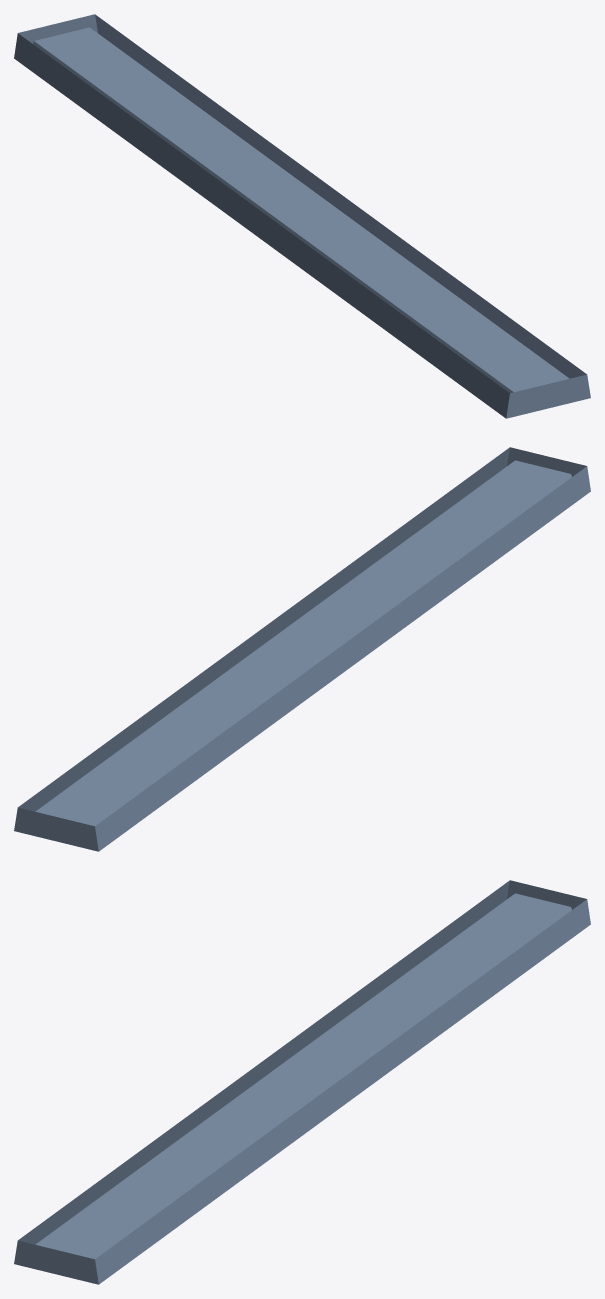
The model's file is SM_LampCeiling_00.fbx.
3 renders of one model, top to bottom at view 1: azimuth 30°, elevation 25°; view 2: azimuth 150°, elevation 25°; view 3: azimuth 330°, elevation 25°, orthographic.
Visible parts, largest first — view 1: LampCeiling_00; view 2: LampCeiling_00; view 3: LampCeiling_00.
Part boxes in pixels (x1,y1,x2,y2): LampCeiling_00: [14, 14, 590, 418]; LampCeiling_00: [14, 447, 590, 851]; LampCeiling_00: [14, 880, 590, 1284].
Size of the model in its own units: 14.92 by 4.72 by 150.
